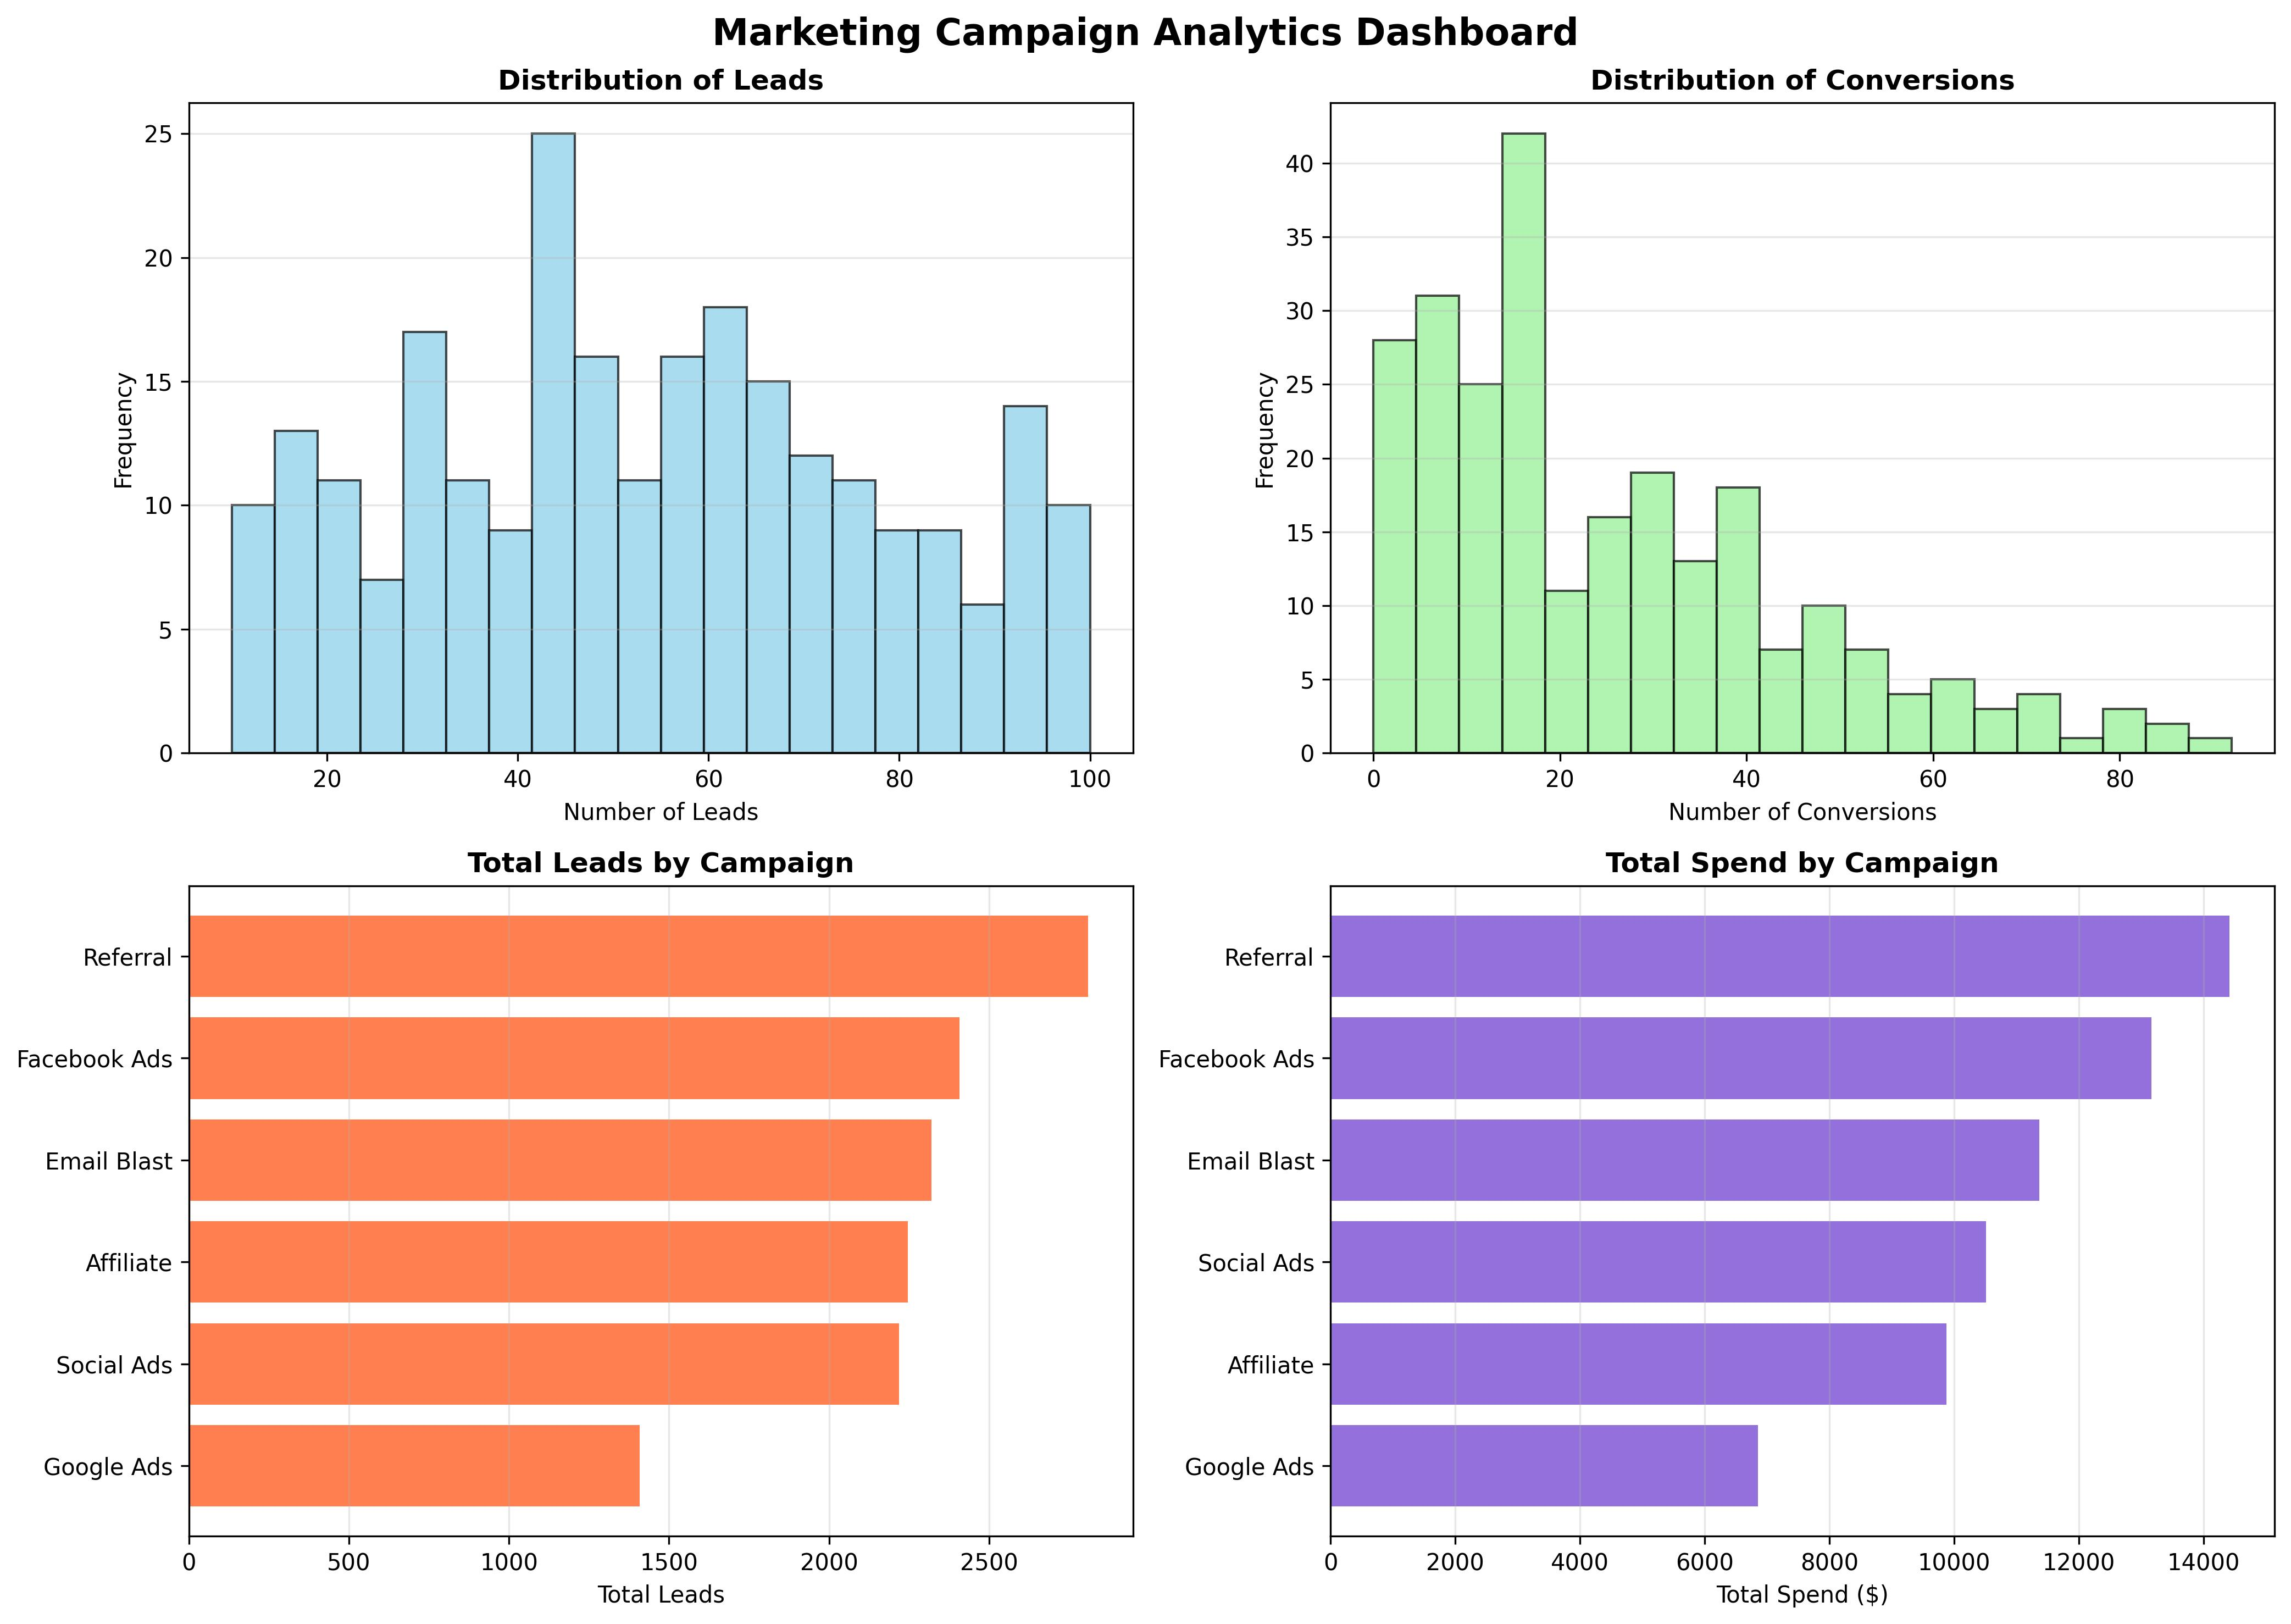

This screenshot's page, from the dashboard's own definition file:
{"tool":"powerbi","page":{"name":"bar_chart","canvas":[1280,720],"ordinal":1},"visuals":[{"type":"slicer","fields":{"Values":["marketing_campaigns.Date"]},"box":[941,0,263,105],"z":0},{"type":"clusteredColumnChart","title":"Distribution of Leads","fields":{"Y":["CountNonNull(marketing_campaigns.Leads (bins))"],"Category":["marketing_campaigns.Leads (bins)"]},"box":[86.9,80.7,417.8,302.5],"z":1000},{"type":"clusteredColumnChart","title":"Distribution of Conversions","fields":{"Y":["CountNonNull(marketing_campaigns.ConversionBin)"],"Category":["marketing_campaigns.ConversionBin"]},"box":[769,88,417,287],"z":2000},{"type":"barChart","title":"Total Leads by Campaign","fields":{"Category":["marketing_campaigns.CampaignName"],"Y":["Sum(marketing_campaigns.Lead_Count)"]},"box":[60.3,383.2,471.9,328.2],"z":3000},{"type":"barChart","title":"Total Spend by Campaign","fields":{"Category":["marketing_campaigns.CampaignName"],"Y":["Sum(marketing_campaigns.Spend)"]},"box":[694.6,392.1,471.9,328.2],"z":4000},{"type":"textbox","box":[389.4,8.9,541.1,71.9],"z":5000},{"type":"actionButton","box":[0,0,100,40],"z":6000}]}

Visuals, with their boxes on the page's 1280x720 design canvas (x1, y1, x2, y2). These are canvas units, not pixel positions in the 2291x1624 screenshot, which may show the page scaled, cropped or inside an application window:
slicer - marketing_campaigns.Date: (x1=941, y1=0, x2=1204, y2=105)
"Distribution of Leads" clusteredColumnChart: (x1=87, y1=81, x2=505, y2=383)
"Distribution of Conversions" clusteredColumnChart: (x1=769, y1=88, x2=1186, y2=375)
"Total Leads by Campaign" barChart: (x1=60, y1=383, x2=532, y2=711)
"Total Spend by Campaign" barChart: (x1=695, y1=392, x2=1166, y2=720)
textbox: (x1=389, y1=9, x2=930, y2=81)
actionButton: (x1=0, y1=0, x2=100, y2=40)
